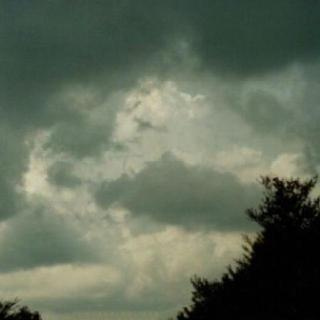Stratocumulus: (0, 0, 306, 278)
